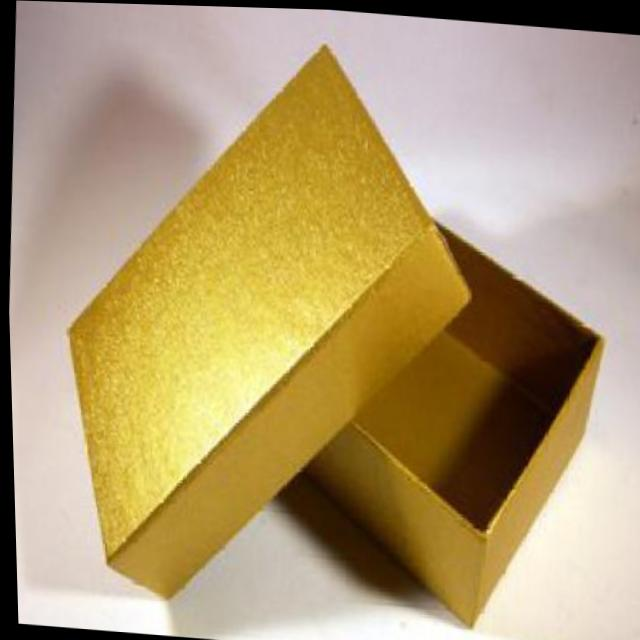box: (32, 11, 640, 640)
